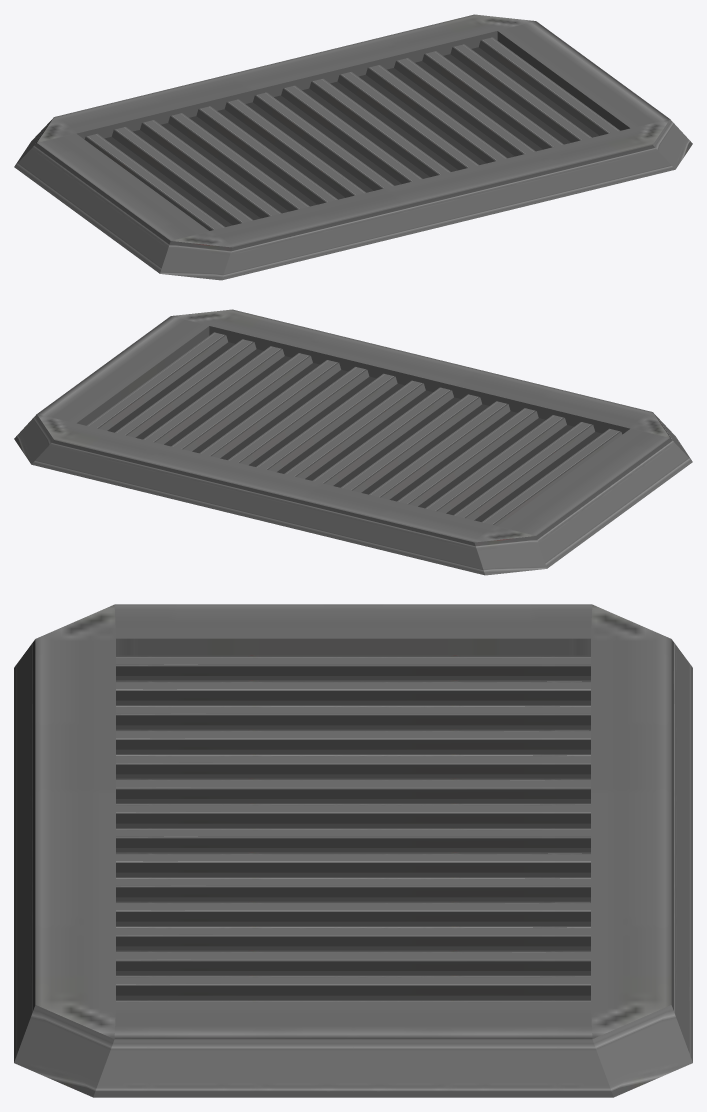
Rendered from bouche-petite.glb.
3 renders of one model, top to bottom at view 1: azimuth 30°, elevation 25°; view 2: azimuth 150°, elevation 25°; view 3: azimuth 270°, elevation 25°, orthographic. The views are drawn at different scales.
Parts seen in each view (by area): view 1: Prop_Vent_Small; view 2: Prop_Vent_Small; view 3: Prop_Vent_Small.
Part boxes in pixels (x1,y1,x2,y2): Prop_Vent_Small: [14, 14, 692, 280]; Prop_Vent_Small: [14, 309, 692, 575]; Prop_Vent_Small: [14, 604, 692, 1097].
Bounding box in the file's own units: 1 × 0.0438 × 0.6183.
Materials: 3 (2 with a texture image).
